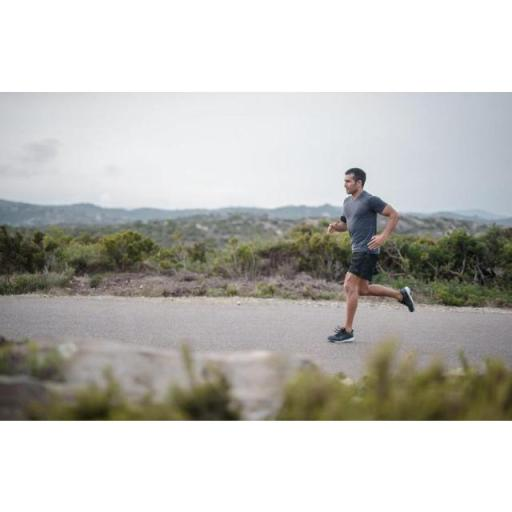Running: (328, 168, 416, 344)
